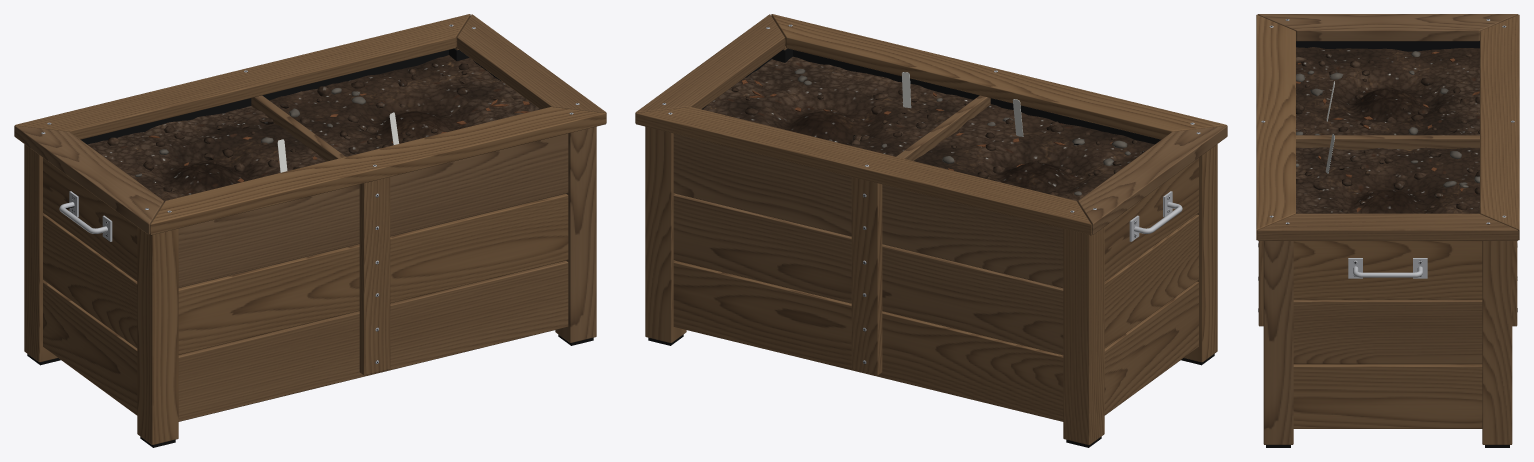
The model's file is planter_box.glb.
3 renders of one model, left to right at view 1: azimuth 30°, elevation 25°; view 2: azimuth 150°, elevation 25°; view 3: azimuth 270°, elevation 25°, orthographic. The views are drawn at different scales.
Parts seen in each view (by area): view 1: Planter_Box; view 2: Planter_Box; view 3: Planter_Box.
Part boxes in pixels (x1,y1,x2,y2): Planter_Box: [14, 14, 606, 447]; Planter_Box: [635, 14, 1227, 447]; Planter_Box: [1256, 14, 1519, 447].
Size of the model in its own units: 1.06 by 0.5211 by 0.53.
1 material, 1 textured.
